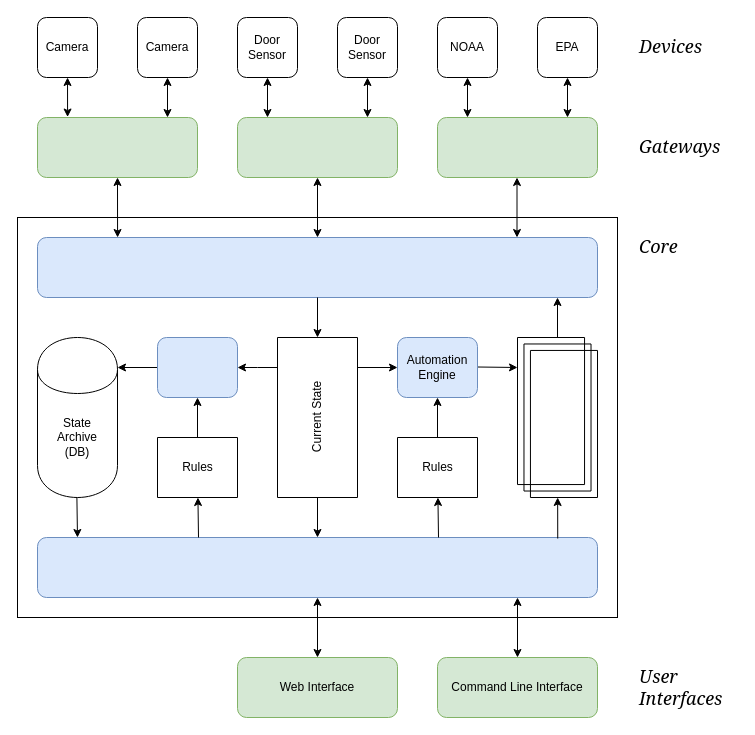
This 755x735 diagram has some shape labels left out. Each missing label, with the centre of its shape:
Camera Gateway: the point at 117,147
Desired State (Layered): the point at 557,417
Gateway API (JSON/HTTP-WebSocket): the point at 317,267
State Archive Engine: the point at 197,367
User API (RESTful-JSON/HTTP): the point at 317,567
Weather/Environment Gateway: the point at 517,147
ZWave Gateway: the point at 317,147
